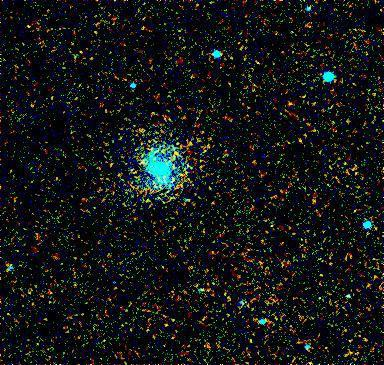star: (127, 150, 157, 180)
